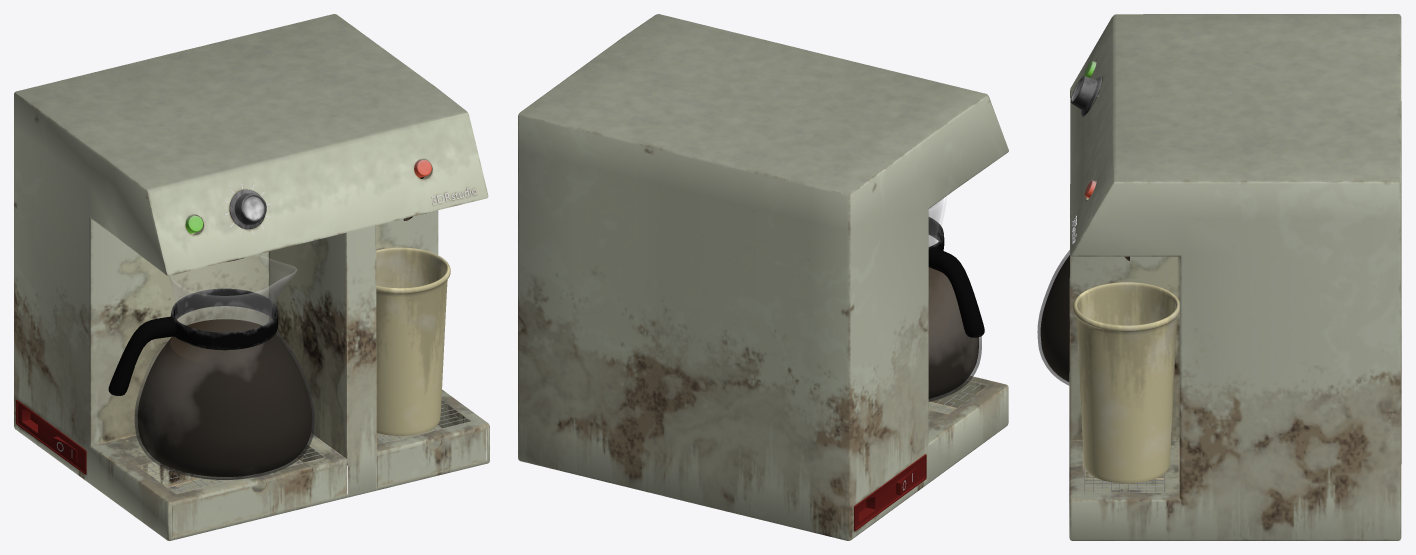
3 views of the same model, side by side, from view 1: azimuth 30°, elevation 25°; view 2: azimuth 150°, elevation 25°; view 3: azimuth 270°, elevation 25° (orthographic). The views are drawn at different scales.
Visible parts, largest first — view 1: CoffeeMachine_0; view 2: CoffeeMachine_0; view 3: CoffeeMachine_0.
Boxes of the visible parts, x1,y1,x2,y2 form: CoffeeMachine_0: [14, 14, 489, 540]; CoffeeMachine_0: [518, 14, 1008, 540]; CoffeeMachine_0: [1037, 14, 1401, 540].
Bounding box in the file's own units: 0.4769 × 0.4542 × 0.415.
Materials: 1 (1 with a texture image).
